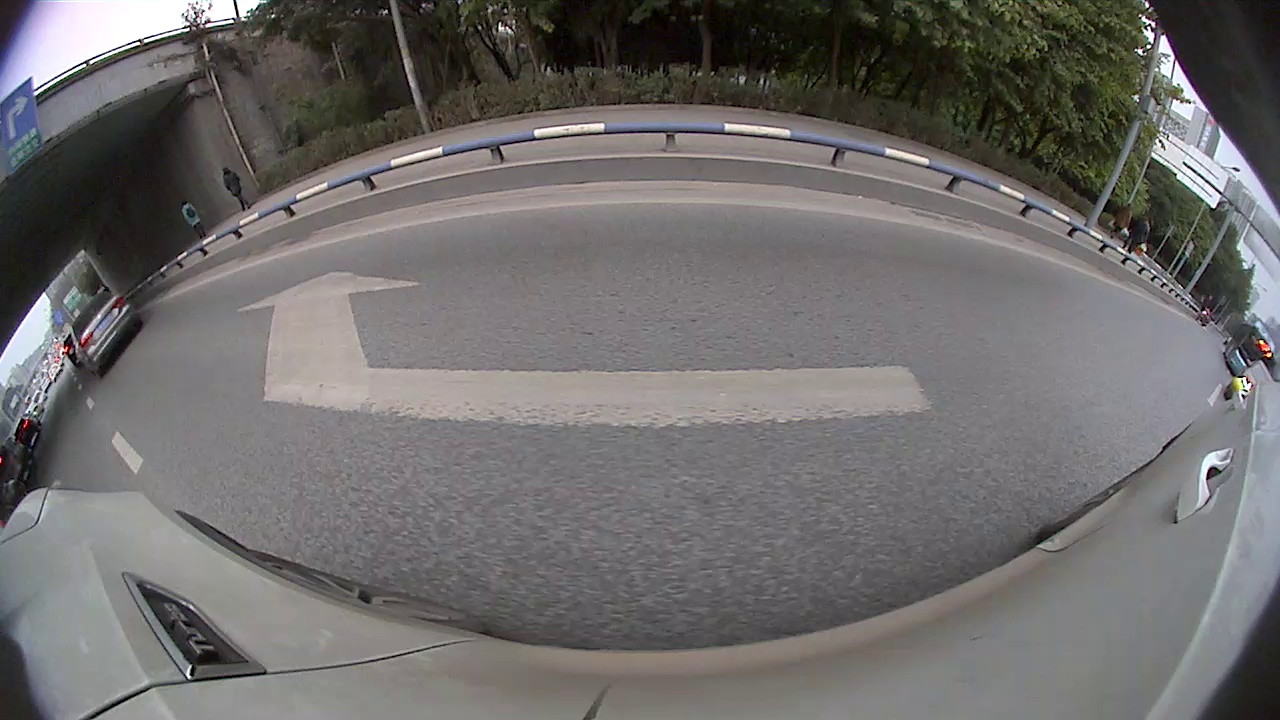car: (812, 76, 993, 214), (88, 191, 202, 294), (170, 131, 305, 201), (1171, 357, 1249, 445), (1100, 256, 1169, 345), (1, 311, 69, 399)
front: (116, 261, 144, 291), (952, 183, 980, 213), (234, 167, 257, 194)
rear: (864, 144, 899, 184)
